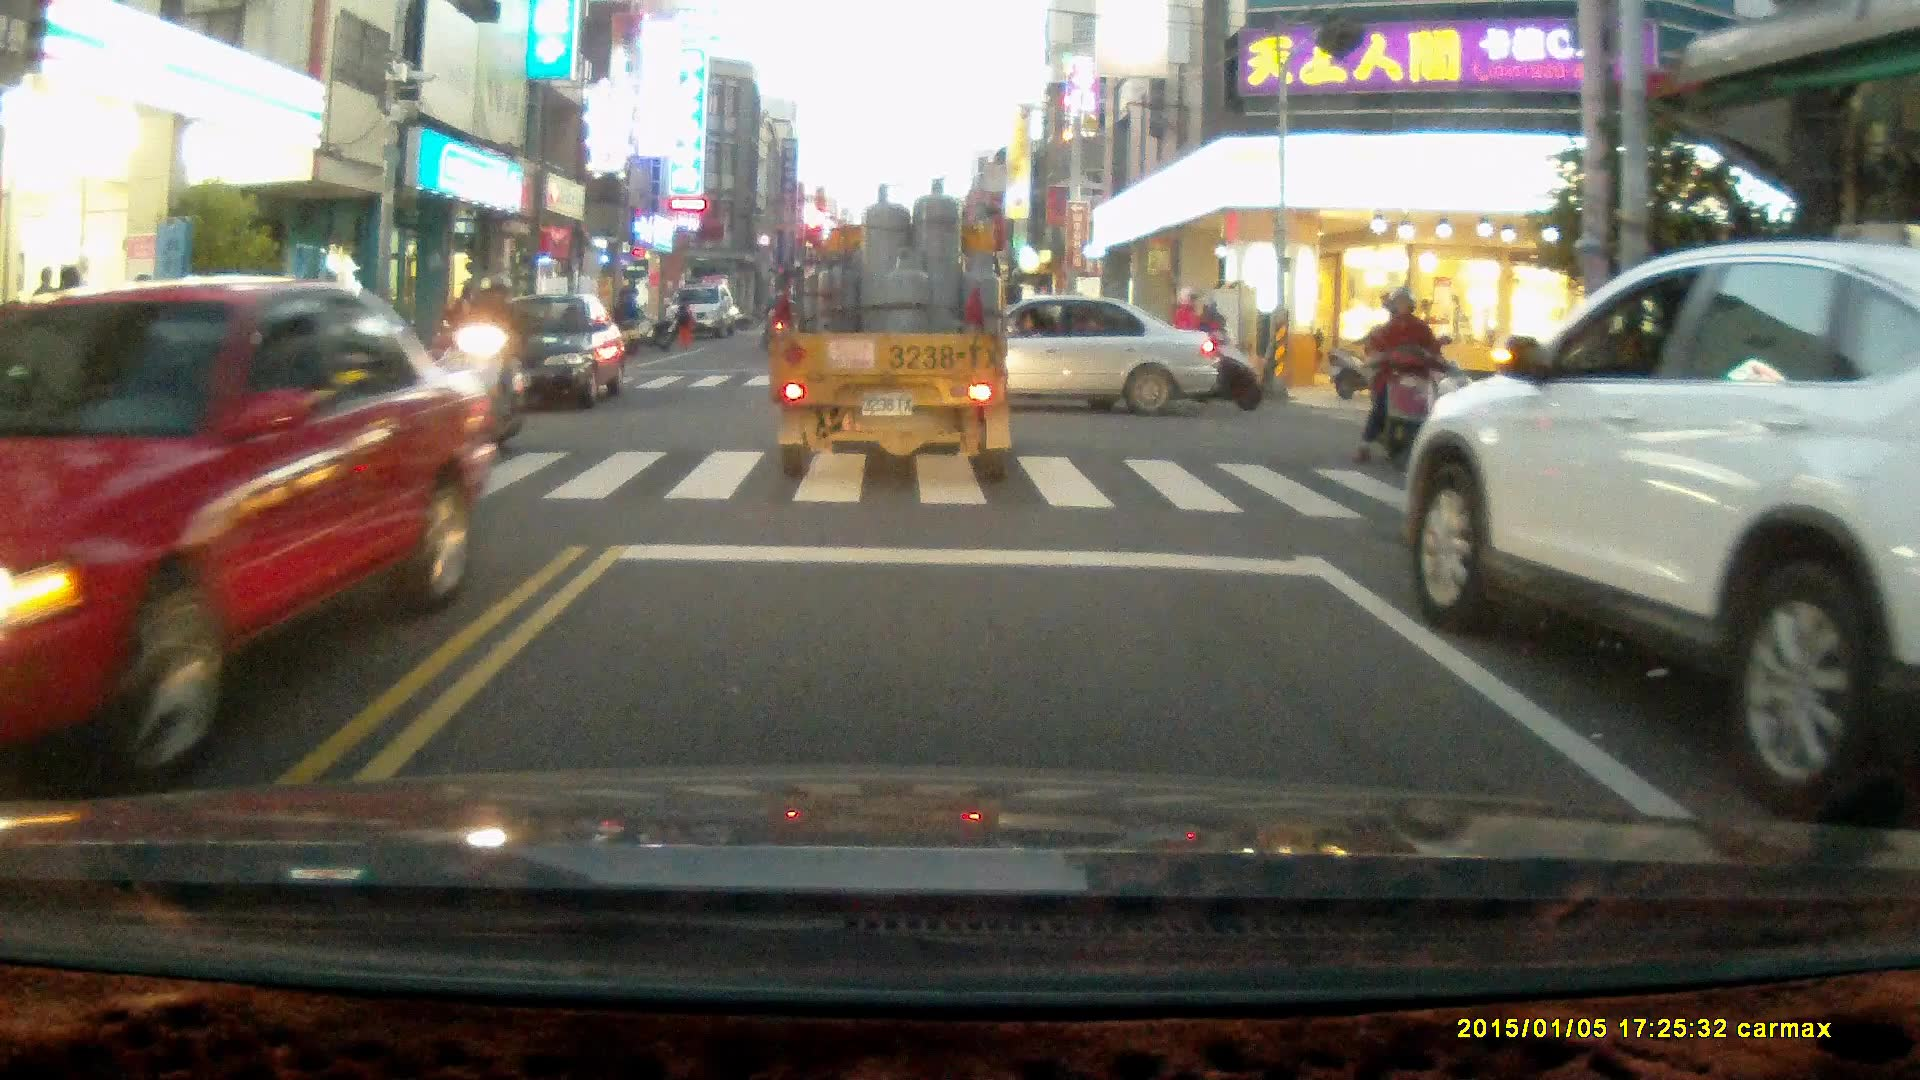pedestrian: (615, 284, 642, 347)
rider: (1349, 283, 1459, 479), (445, 275, 529, 469), (1142, 284, 1264, 410)
vehicle: (1398, 238, 1920, 822), (1, 275, 502, 793), (772, 182, 1022, 479), (869, 291, 1225, 416), (465, 286, 629, 418), (666, 284, 735, 336)
